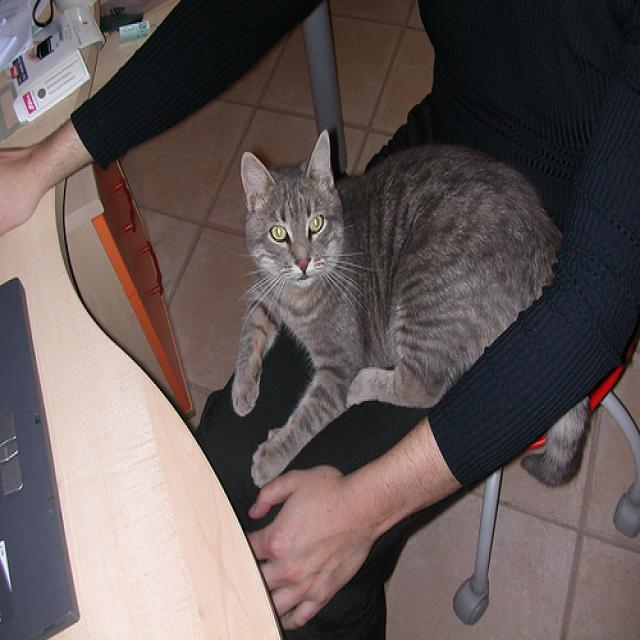left eye: (306, 212, 325, 236)
